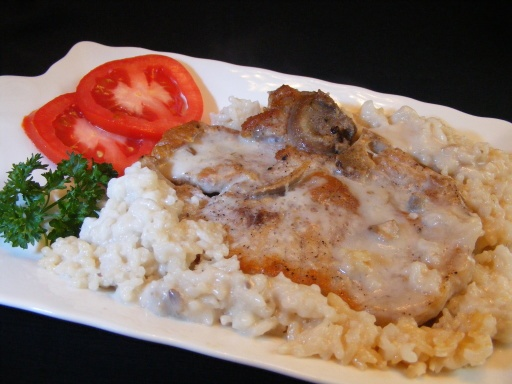background: (0, 31, 410, 226)
